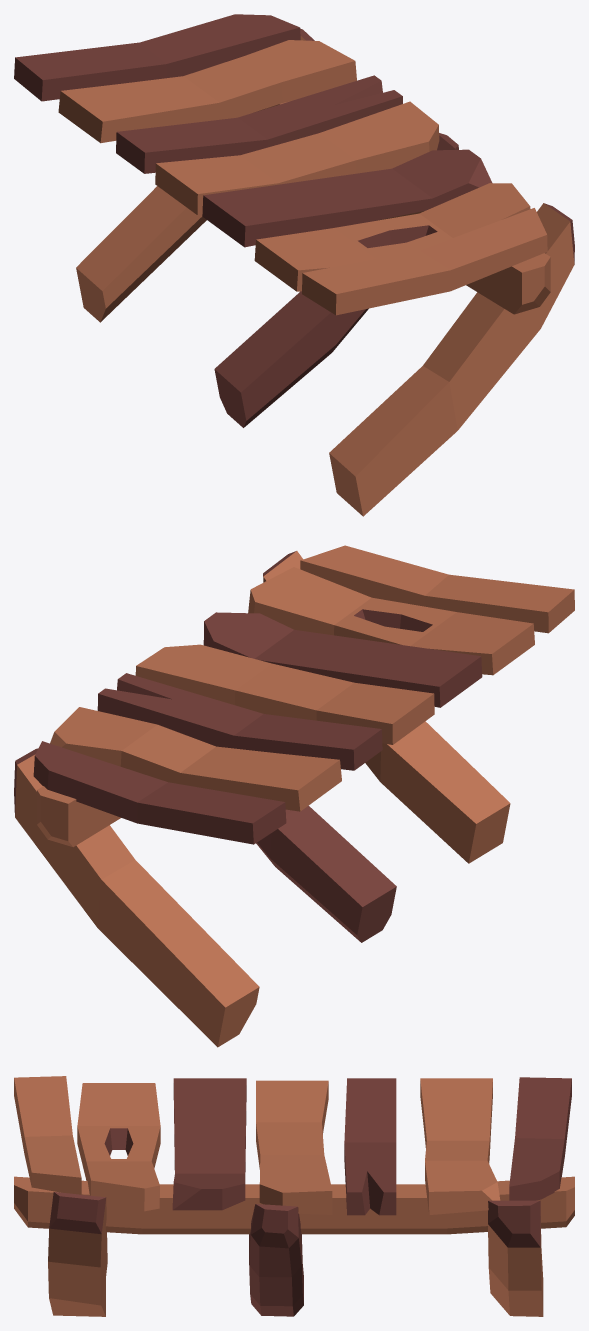
File: Wall_Top_5.fbx
3 renders of one model, top to bottom at view 1: azimuth 30°, elevation 25°; view 2: azimuth 150°, elevation 25°; view 3: azimuth 270°, elevation 25°, orthographic. The views are drawn at different scales.
Visible parts, largest first — view 1: Wall_Top_5; view 2: Wall_Top_5; view 3: Wall_Top_5.
Boxes of the visible parts, box(x1,y1,x2,y2) form: Wall_Top_5: box(14, 14, 574, 516); Wall_Top_5: box(14, 545, 574, 1047); Wall_Top_5: box(14, 1076, 574, 1316).
Bounding box in the file's own units: 381 × 333 × 781.
